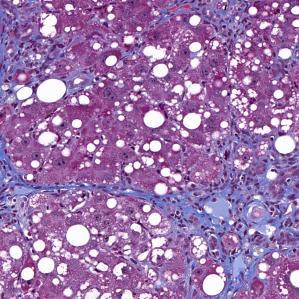fibrosis: (190, 157, 299, 241), (0, 7, 71, 83), (0, 158, 41, 219)
